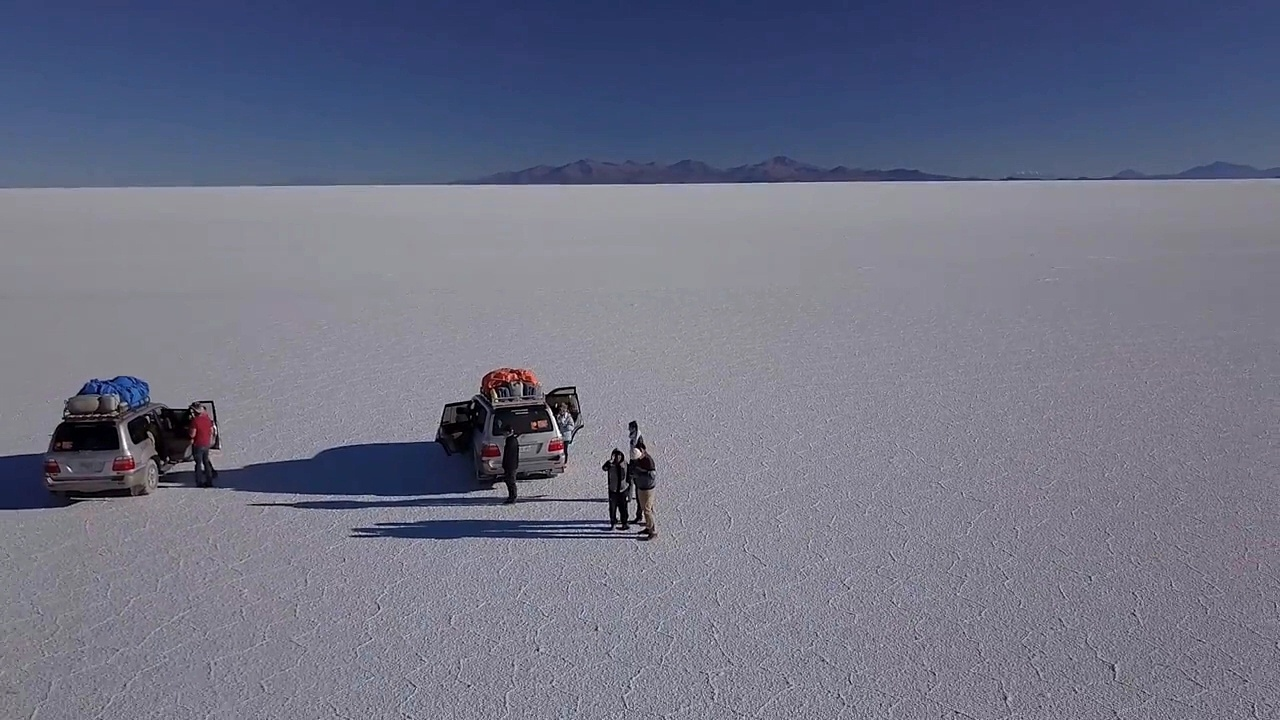araba: (42, 389, 174, 498), (460, 382, 569, 484)
insan: (183, 400, 222, 491), (627, 443, 663, 541), (600, 448, 632, 531), (497, 429, 523, 502)
